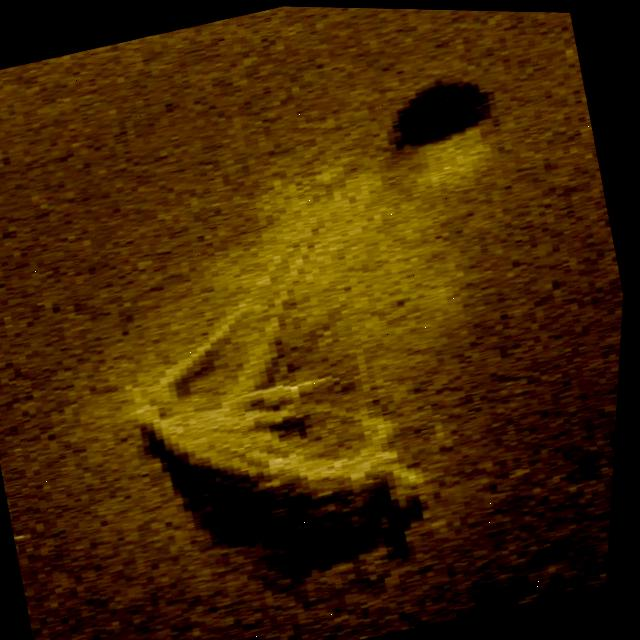shipwreck: (138, 347, 434, 547)
